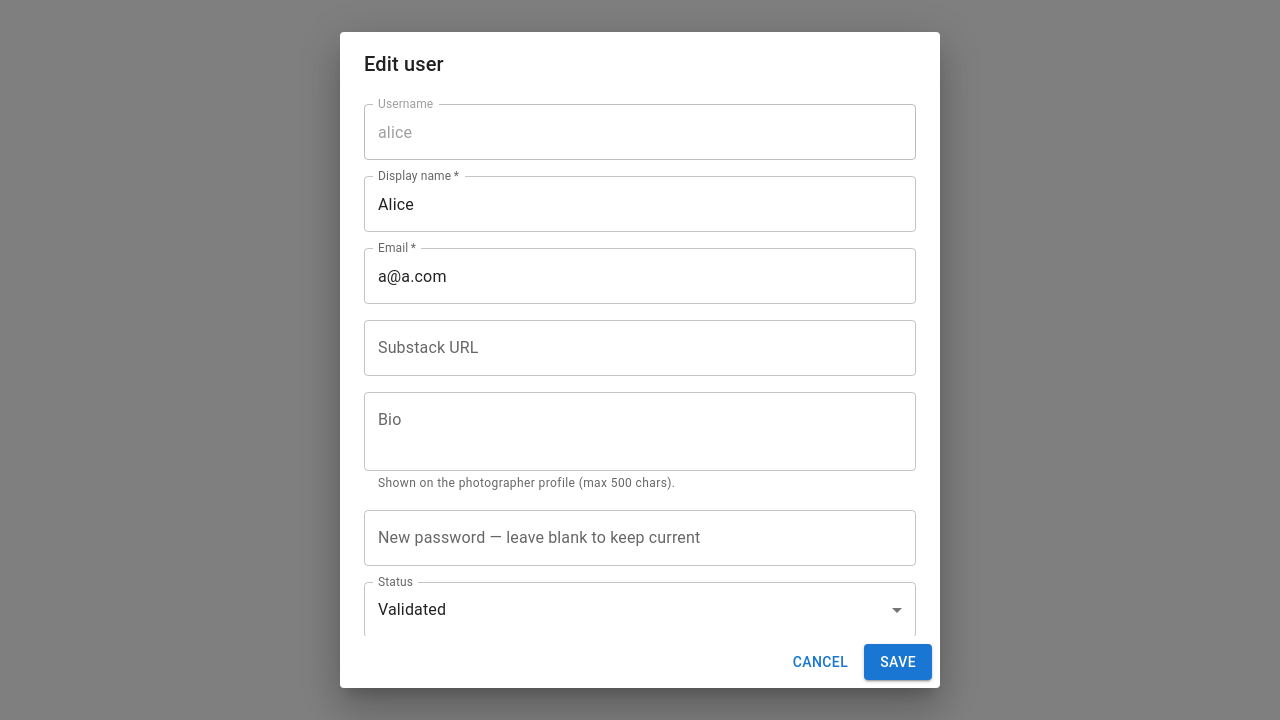
UserModal › shows error message when PUT fails
Click the button "Save". click: (898,662)
box: [864, 644, 932, 680]
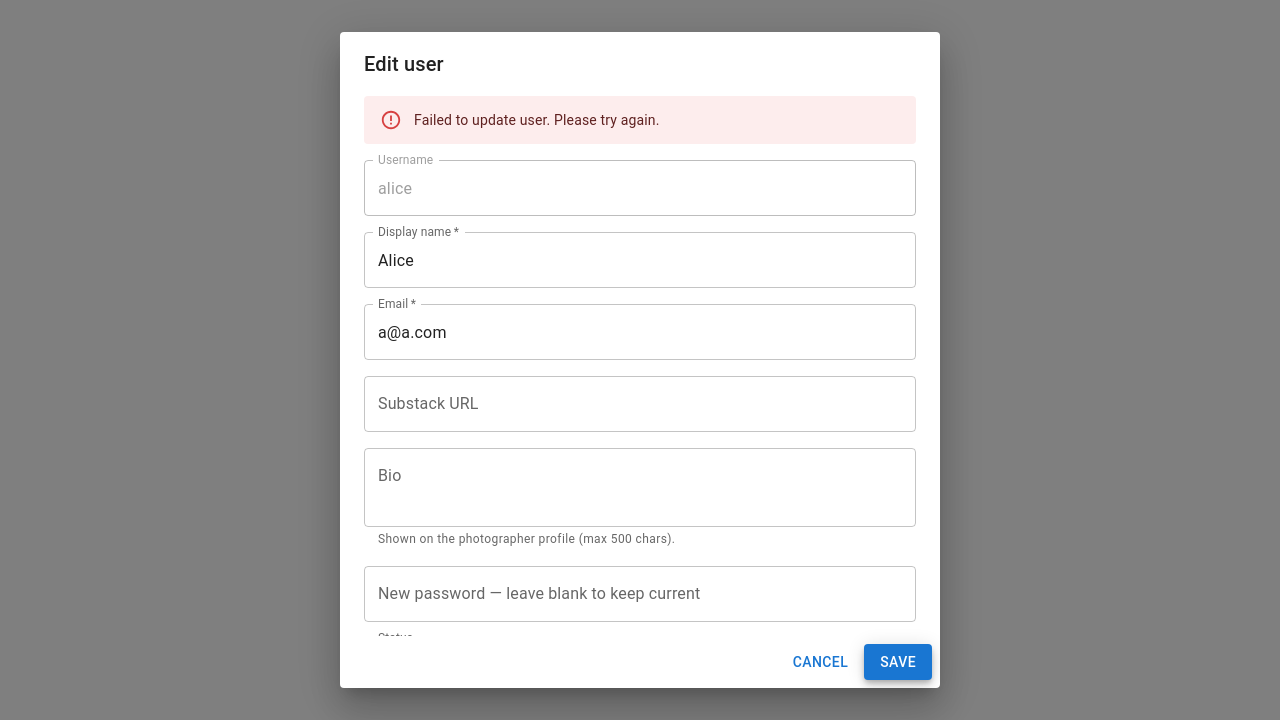
Expected: the text "Failed to update user. Please try again." is shown, [414, 112, 660, 128]
